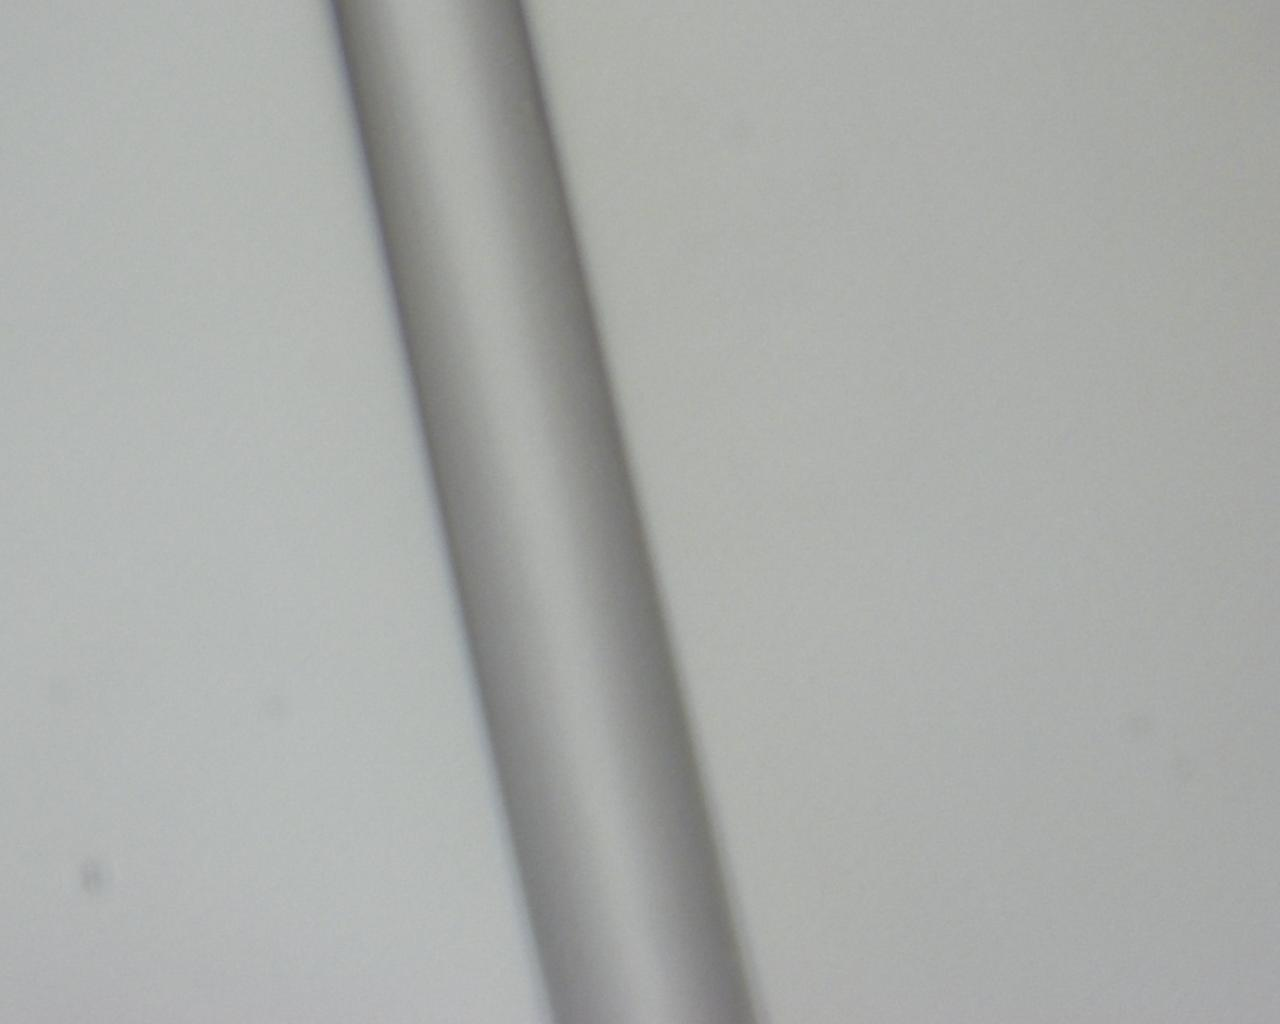fiber: (128, 645, 1152, 708)
